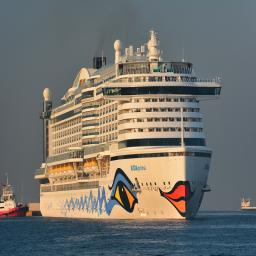cruises: (34, 29, 225, 227)
